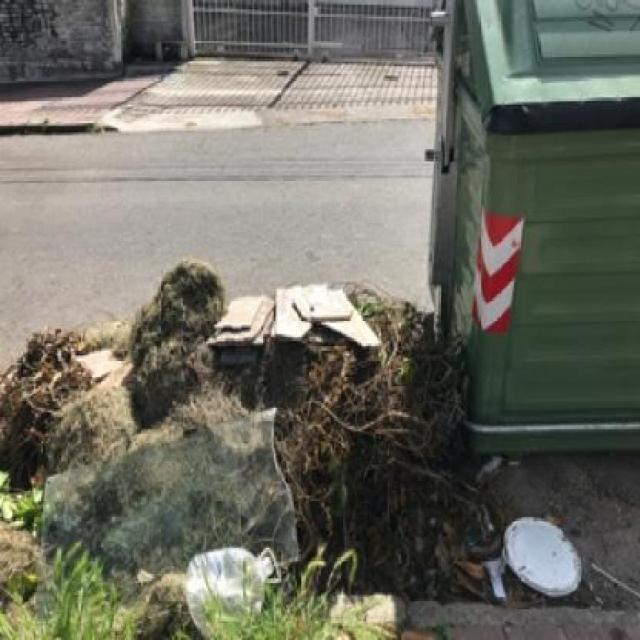garbage: (3, 323, 469, 588), (145, 259, 448, 316), (475, 455, 576, 592)
